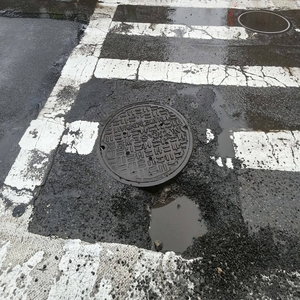pothole: (116, 177, 235, 266)
